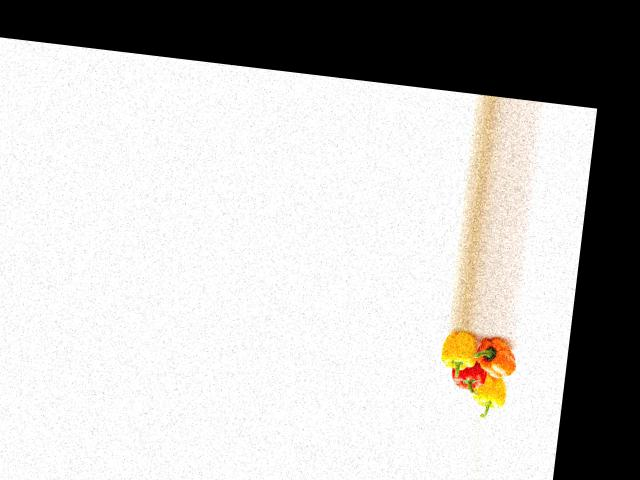bell_pepper: (437, 328, 489, 379)
